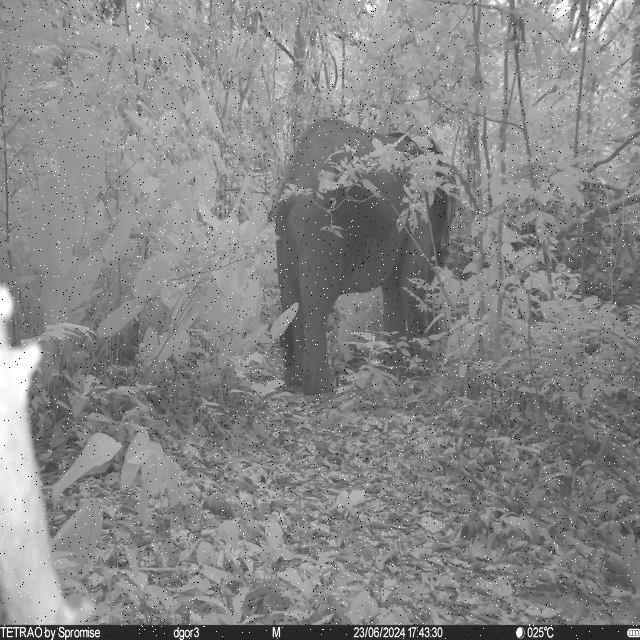elephant: (266, 116, 455, 402)
